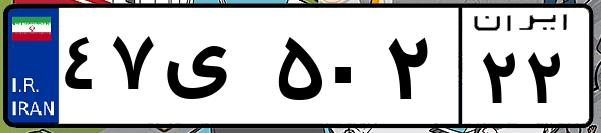0: (330, 28, 385, 110)
2: (385, 28, 445, 110), (475, 38, 525, 113), (525, 38, 570, 115)
4: (57, 26, 110, 100)
5: (270, 28, 330, 110)
7: (110, 28, 158, 98)
ی: (158, 20, 270, 120)
